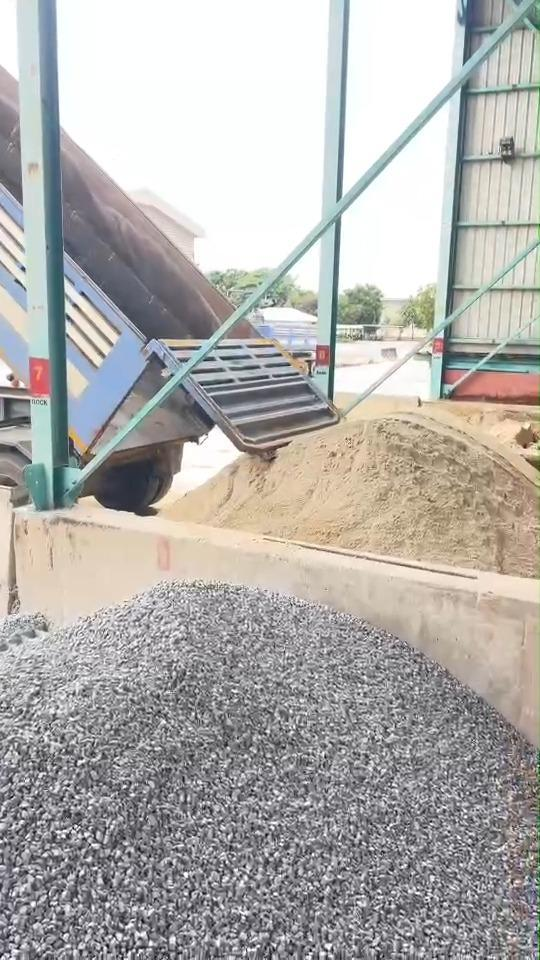gravel: (0, 583, 535, 959), (0, 613, 48, 651)
sand: (162, 411, 537, 576), (488, 419, 537, 450)
